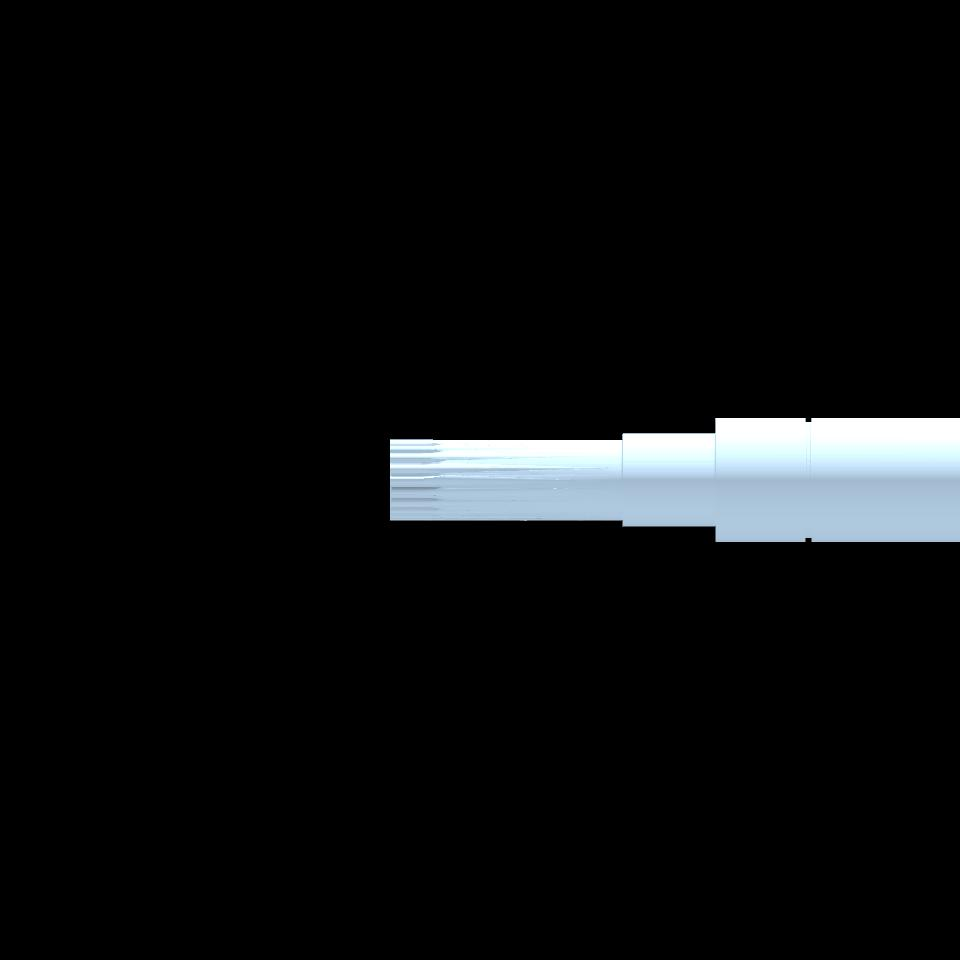Straight: (390, 438, 436, 521)
